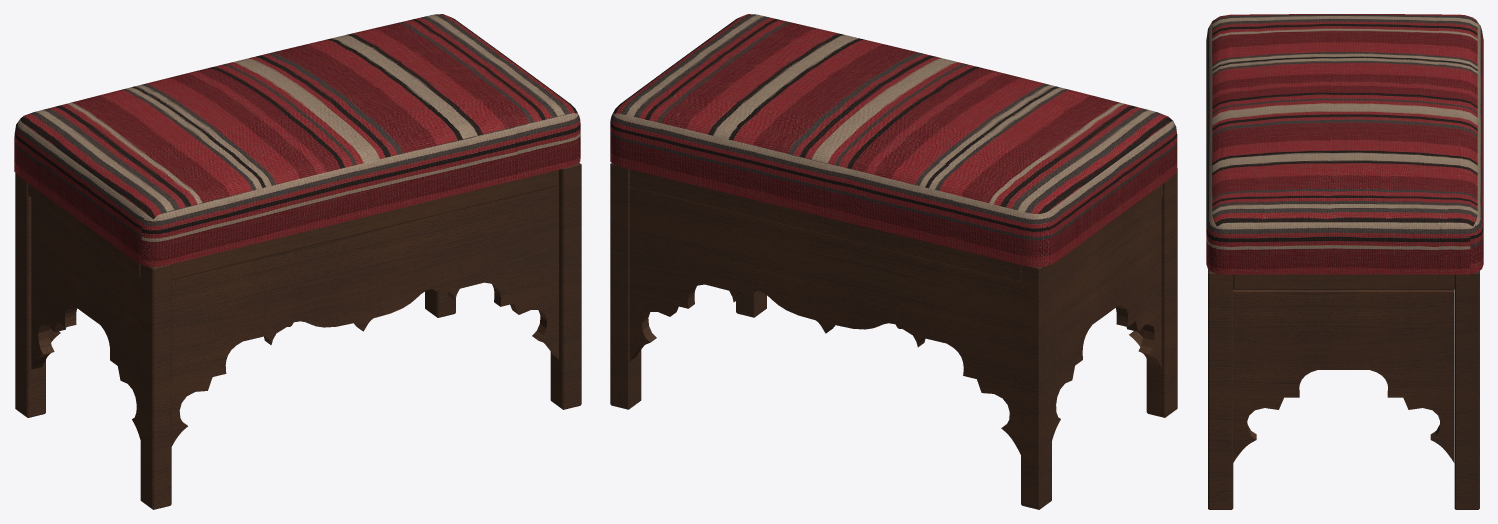
File: Stool.fbx
The picture shows the model from 3 angles, left to right: view 1: azimuth 30°, elevation 25°; view 2: azimuth 150°, elevation 25°; view 3: azimuth 270°, elevation 25°; orthographic projection.
Visible parts, largest first — view 1: Stool; view 2: Stool; view 3: Stool.
Boxes of the visible parts, x1,y1,x2,y2 form: Stool: (14,14,581,509); Stool: (610,14,1177,509); Stool: (1206,14,1483,509).
Bounding box in the file's own units: 72.57 × 48.44 × 40.12.
Materials: 2 (2 with a texture image).
